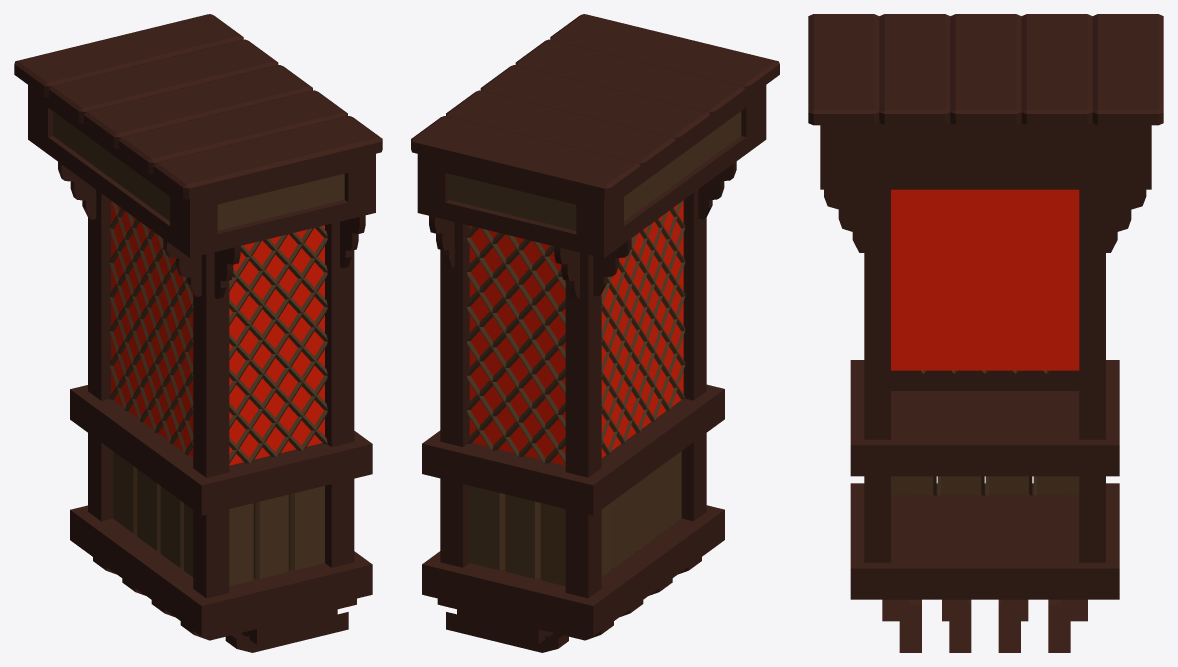
Rendered from balcony_3.FBX.
3 renders of one model, left to right at view 1: azimuth 30°, elevation 25°; view 2: azimuth 150°, elevation 25°; view 3: azimuth 270°, elevation 25°, orthographic. The views are drawn at different scales.
Visible parts, largest first — view 1: balcony_3; view 2: balcony_3; view 3: balcony_3.
Part boxes in pixels (left/top/right/bottom): balcony_3: left=14, top=14, right=382, bottom=652; balcony_3: left=411, top=14, right=779, bottom=652; balcony_3: left=808, top=14, right=1163, bottom=652.
Bounding box in the file's own units: 183 × 442 × 265.
